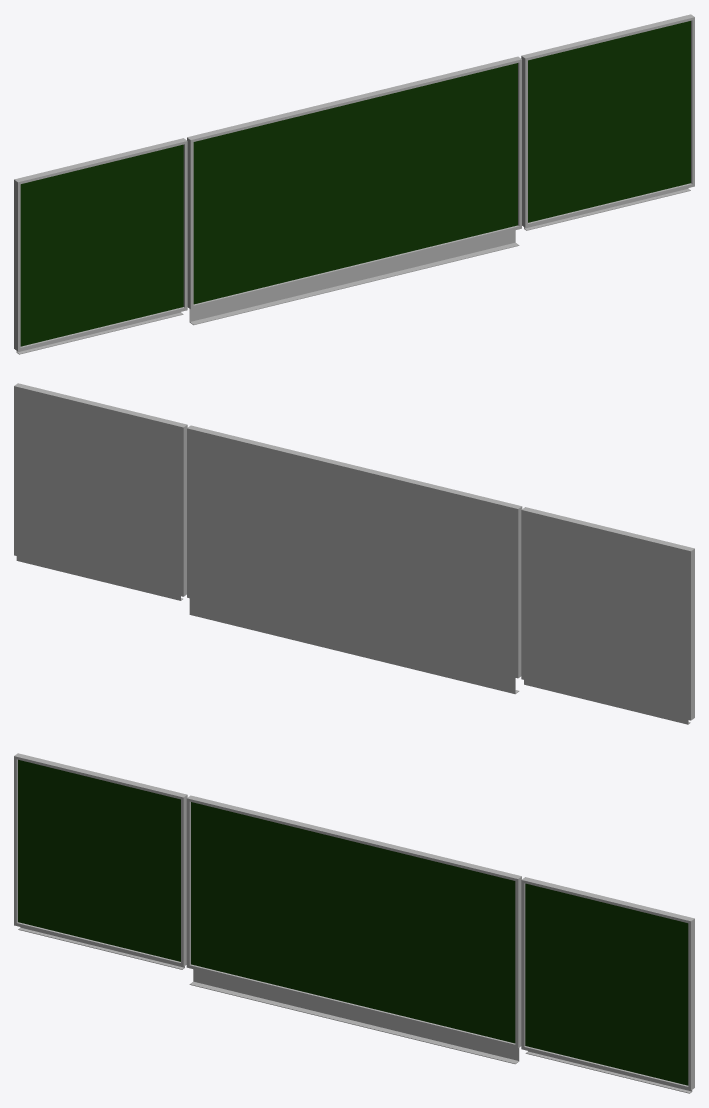
Rendered from KreideTafel.glb.
The picture shows the model from 3 angles, top to bottom: view 1: azimuth 30°, elevation 25°; view 2: azimuth 150°, elevation 25°; view 3: azimuth 330°, elevation 25°; orthographic projection.
Parts seen in each view (by area): view 1: Cube.002, Cube.004, Cube.001; view 2: Cube.002, Cube.004, Cube.001; view 3: Cube.002, Cube.001, Cube.004.
Boxes of the visible parts, x1,y1,x2,y2 form: Cube.002: [187, 56, 521, 325]; Cube.004: [14, 138, 187, 354]; Cube.001: [521, 14, 694, 230]; Cube.002: [187, 425, 522, 694]; Cube.004: [521, 507, 694, 724]; Cube.001: [14, 383, 187, 600]; Cube.002: [186, 795, 521, 1064]; Cube.001: [521, 877, 694, 1093]; Cube.004: [14, 753, 187, 969].
Bounding box in the file's own units: 5.2 × 1.36 × 0.0531.
